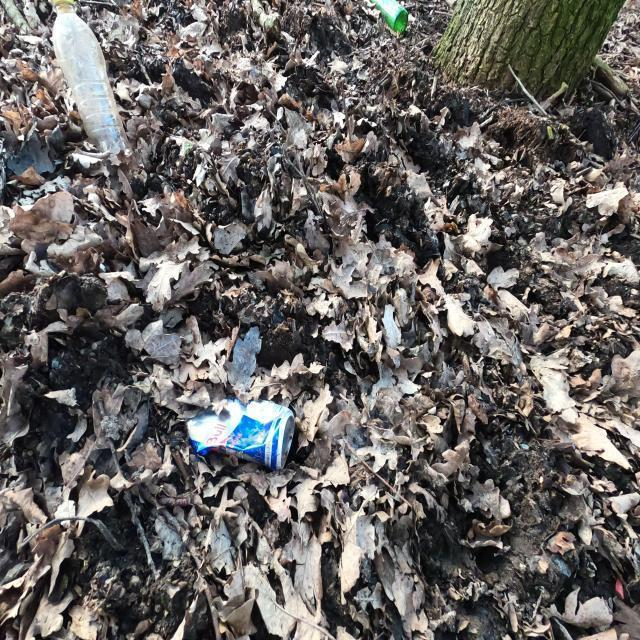Can-Metal: (182, 388, 298, 474)
